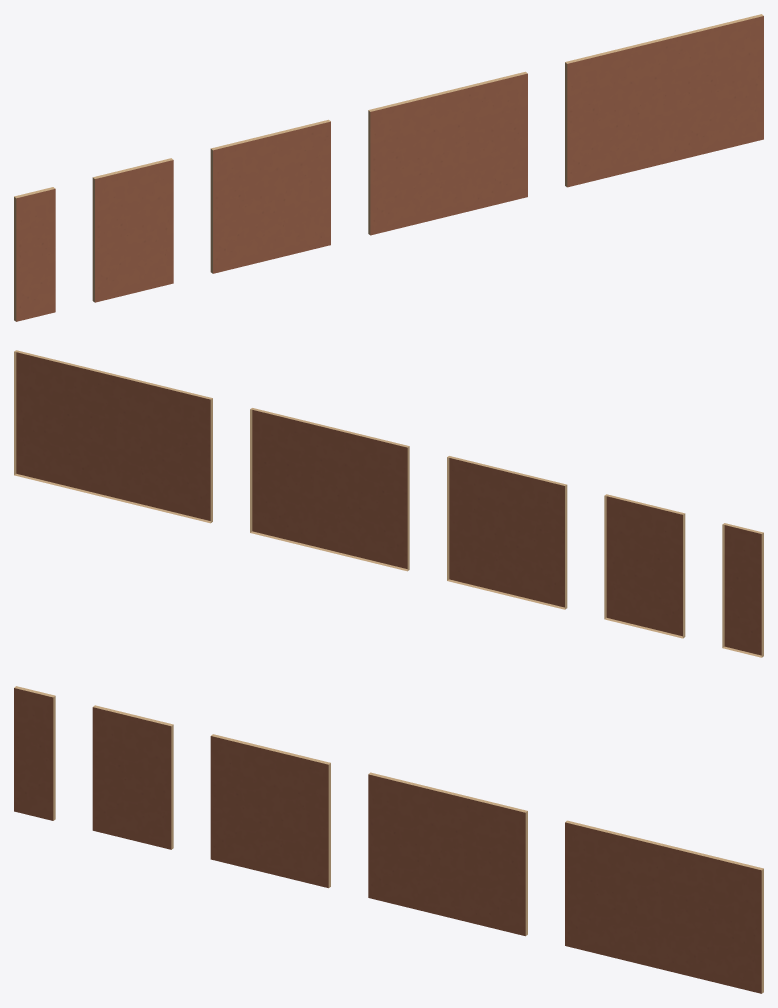
Rendered from walls.fbx.
3 views of the same model, one above another, from view 1: azimuth 30°, elevation 25°; view 2: azimuth 150°, elevation 25°; view 3: azimuth 330°, elevation 25° (orthographic).
Parts seen in each view (by area): view 1: wall_5x3m_ext, wall_4x3m_ext, wall_3x3m_ext, wall_2x3m_ext, wall_1x3m_ext; view 2: wall_5x3m_ext, wall_4x3m_ext, wall_3x3m_ext, wall_2x3m_ext, wall_1x3m_ext; view 3: wall_5x3m_ext, wall_4x3m_ext, wall_3x3m_ext, wall_2x3m_ext, wall_1x3m_ext.
Part boxes in pixels (left/top/right/bottom): wall_5x3m_ext: left=565, top=14, right=763, bottom=187; wall_4x3m_ext: left=368, top=71, right=527, bottom=235; wall_3x3m_ext: left=210, top=119, right=330, bottom=273; wall_2x3m_ext: left=92, top=158, right=173, bottom=302; wall_1x3m_ext: left=14, top=187, right=55, bottom=321; wall_5x3m_ext: left=14, top=350, right=212, bottom=523; wall_4x3m_ext: left=250, top=408, right=409, bottom=571; wall_3x3m_ext: left=447, top=456, right=567, bottom=609; wall_2x3m_ext: left=604, top=494, right=685, bottom=638; wall_1x3m_ext: left=722, top=523, right=763, bottom=657; wall_5x3m_ext: left=565, top=820, right=763, bottom=993; wall_4x3m_ext: left=368, top=772, right=527, bottom=936; wall_3x3m_ext: left=210, top=734, right=330, bottom=888; wall_2x3m_ext: left=92, top=705, right=173, bottom=849; wall_1x3m_ext: left=14, top=686, right=55, bottom=820.
Size of the model in its own units: 1900 by 300 by 10.
2 materials, 2 textured.
